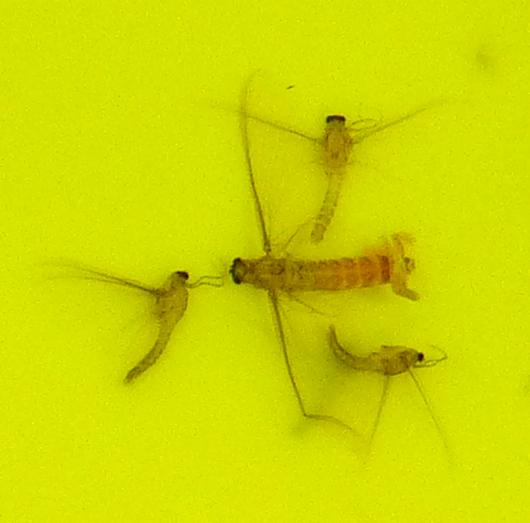Ephemeroptera: (216, 148, 418, 423), (100, 267, 204, 385), (303, 100, 362, 253), (317, 323, 430, 393)
